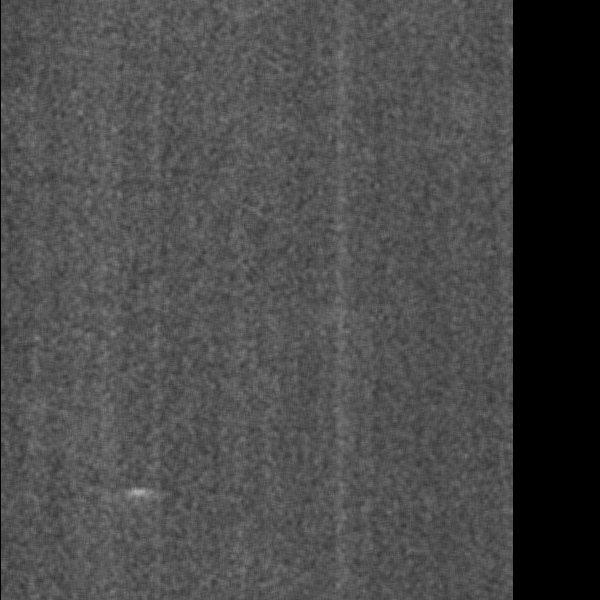spark: (257, 299, 295, 378), (405, 395, 463, 442)
